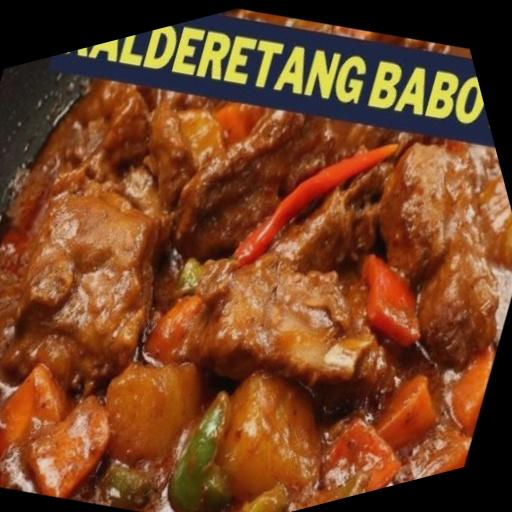pork caldereta: (0, 79, 511, 511)
